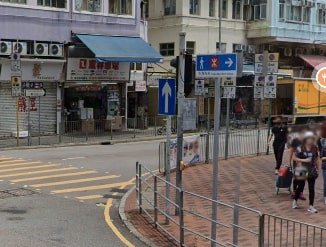One Way Traffic: (152, 78, 178, 117)
